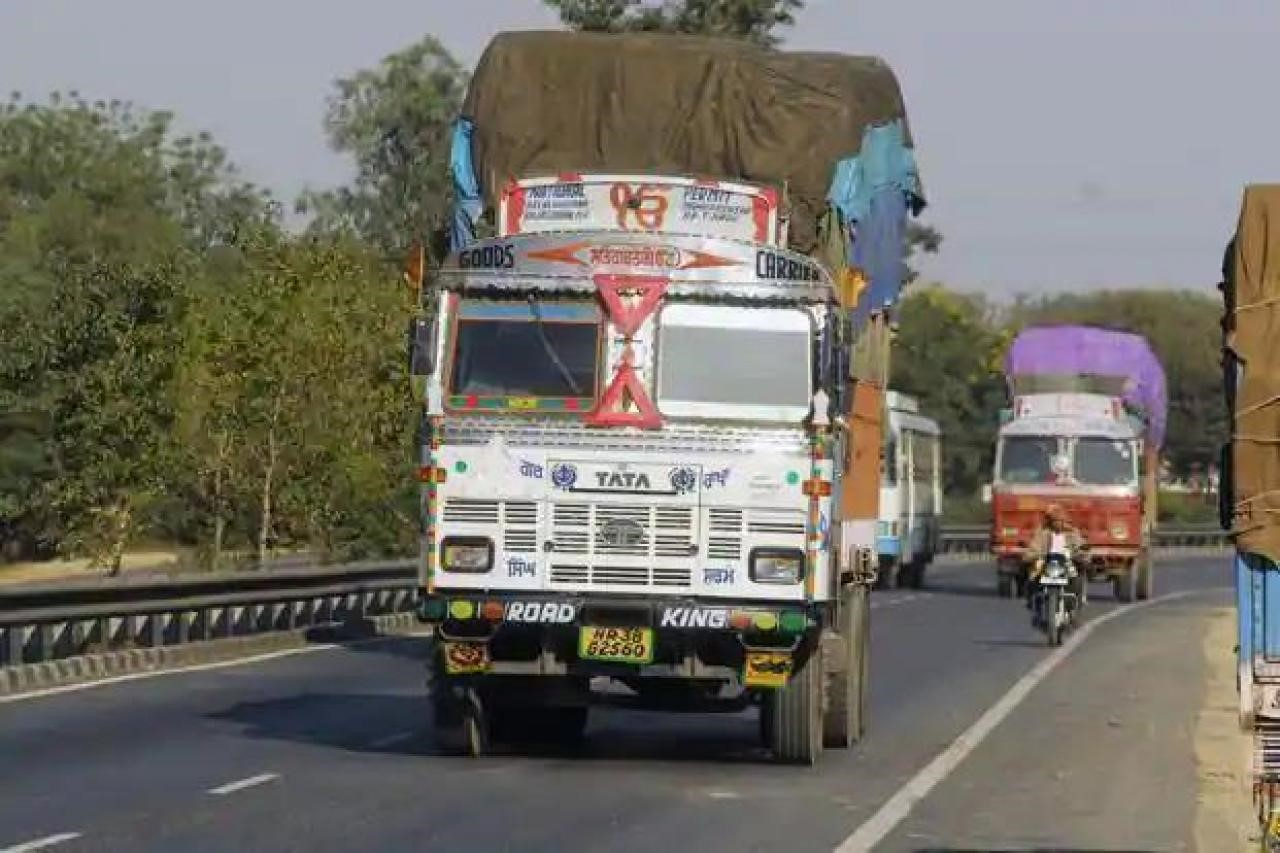HeavyVehicle: (417, 169, 889, 785)
